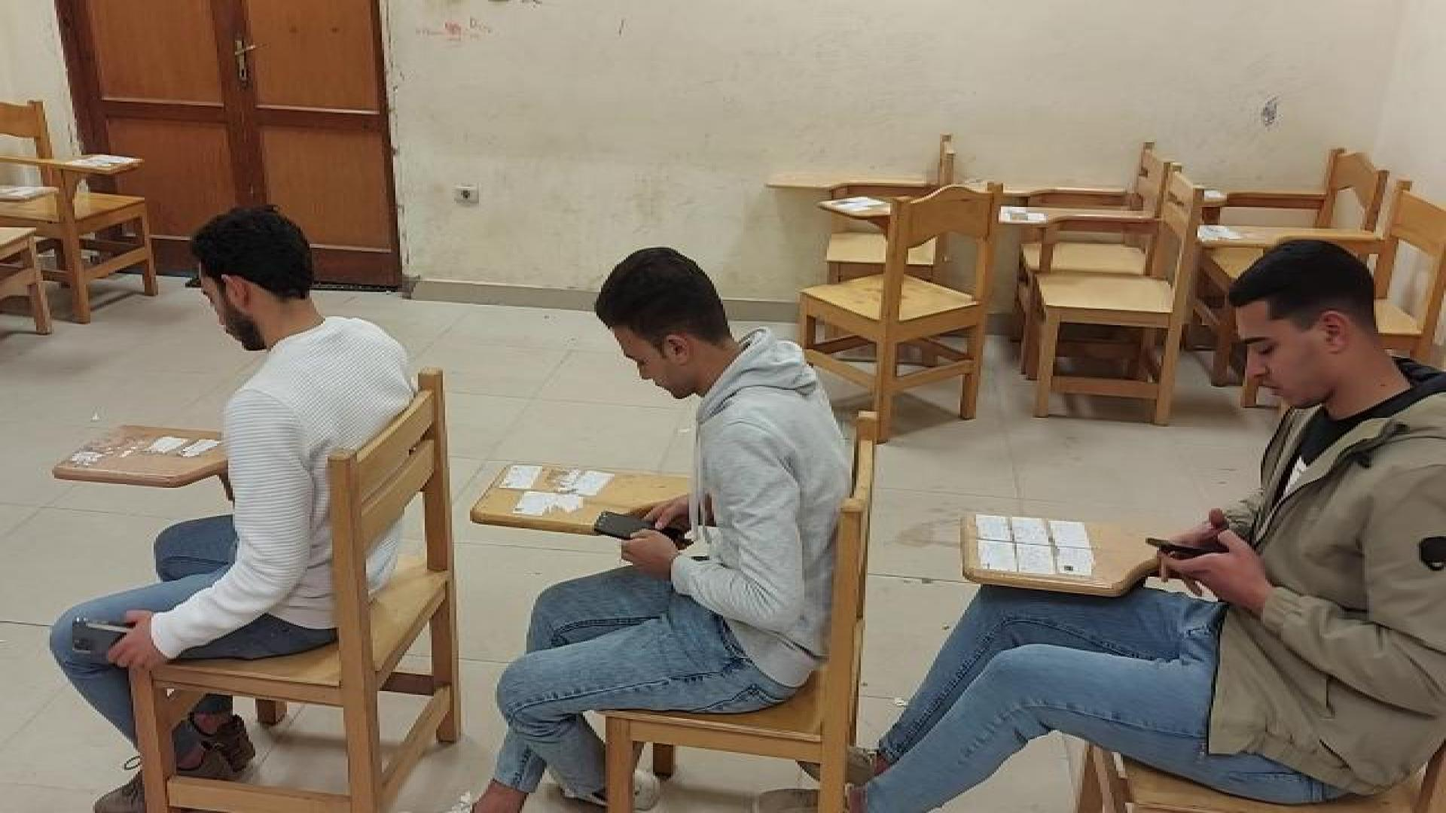phone: (70, 615, 151, 666), (592, 509, 680, 550), (1143, 532, 1234, 560)
